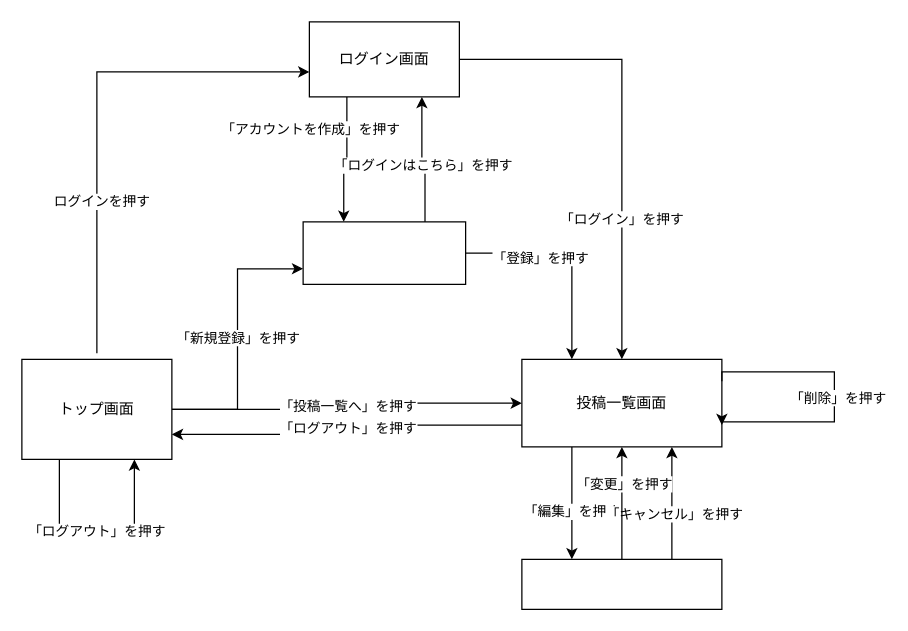
Some shapes in this 908 by 631 pixel diagram are drawn without their labels. The centre of each missing label's shape, as x and y in pixels:
ユーザー登録画面: point 384,252
投稿編集画面: point 621,583
